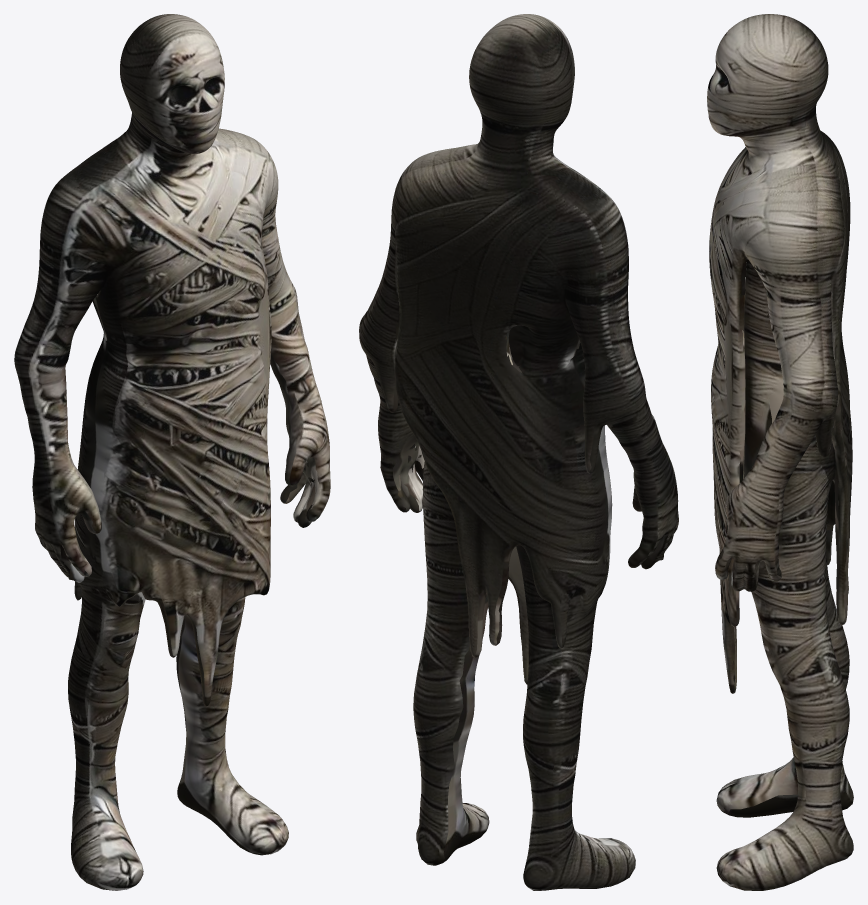
Rendered from mumya.glb.
The picture shows the model from 3 angles, left to right: view 1: azimuth 30°, elevation 25°; view 2: azimuth 150°, elevation 25°; view 3: azimuth 270°, elevation 25°; orthographic projection. The views are drawn at different scales.
Parts seen in each view (by area): view 1: Mummy; view 2: Mummy; view 3: Mummy.
Part boxes in pixels (box(x1,y1,x2,y2)): Mummy: box(14, 14, 330, 890); Mummy: box(359, 14, 678, 890); Mummy: box(707, 14, 853, 890).
Size of the model in its own units: 0.6201 by 1.75 by 0.2802.
1 material, 1 textured.
